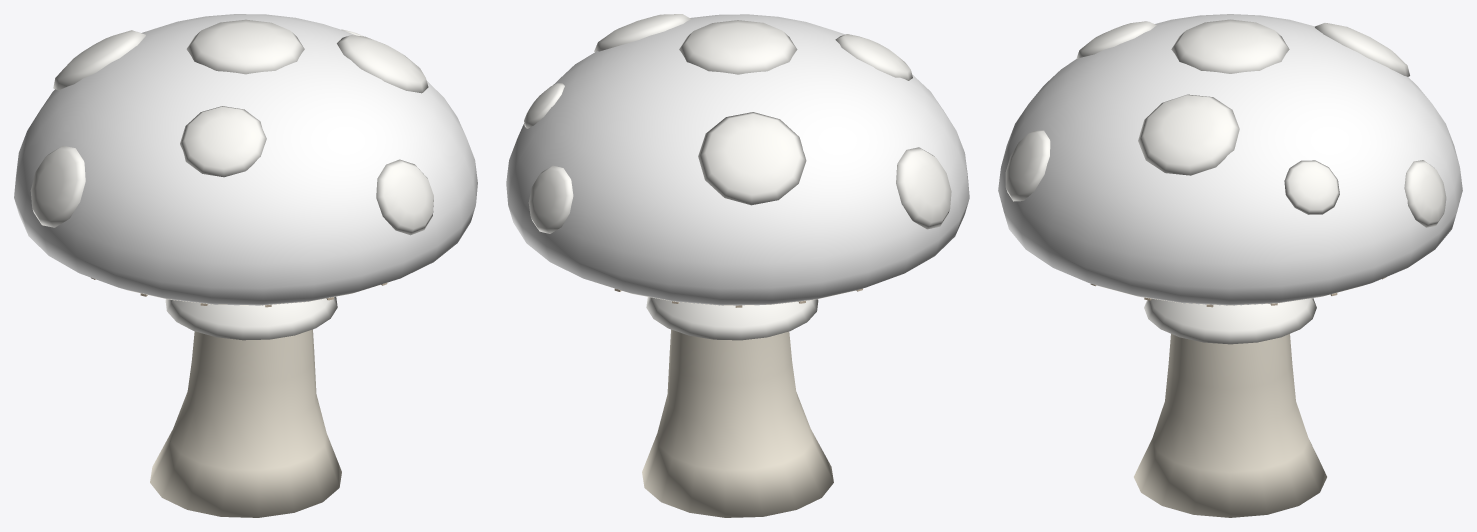
File: mushroom.glb
3 renders of one model, left to right at view 1: azimuth 30°, elevation 25°; view 2: azimuth 150°, elevation 25°; view 3: azimuth 270°, elevation 25°, orthographic.
Visible parts, largest first — view 1: Pilz; view 2: Pilz; view 3: Pilz.
Part boxes in pixels (x1,y1,x2,y2): Pilz: (14, 14, 477, 517); Pilz: (506, 14, 969, 517); Pilz: (998, 14, 1462, 517).
Size of the model in its own units: 3.64 by 3.79 by 3.6.
